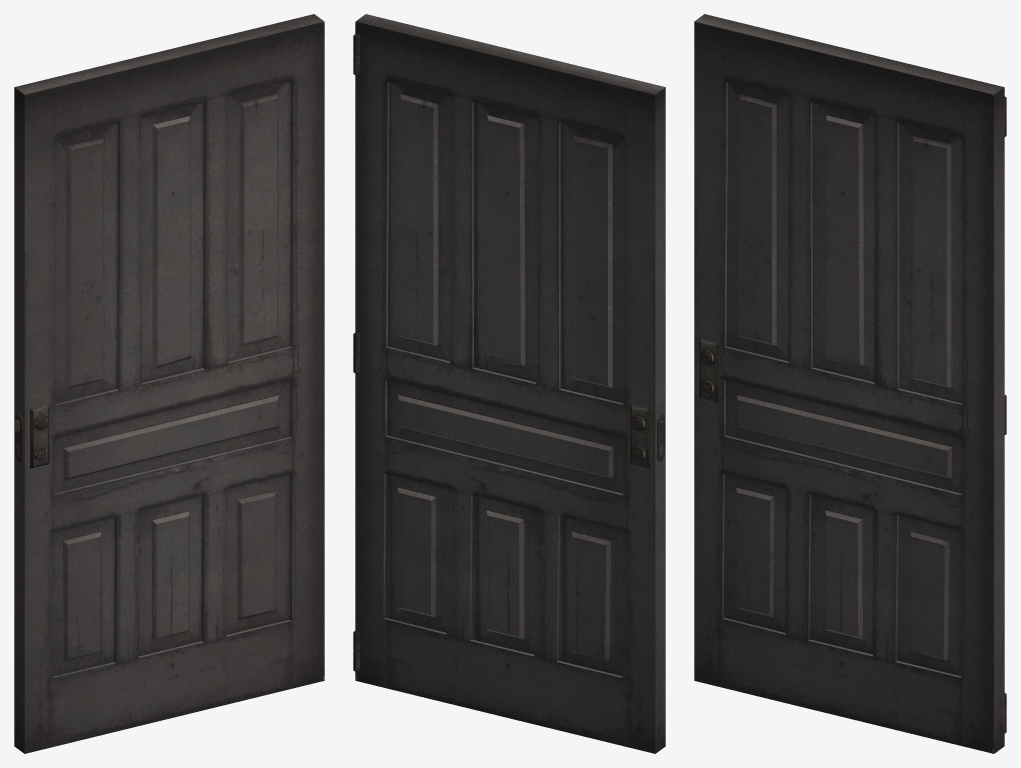
The model's file is door_1.fbx.
3 views of the same model, side by side, from view 1: azimuth 30°, elevation 25°; view 2: azimuth 150°, elevation 25°; view 3: azimuth 330°, elevation 25° (orthographic).
Parts seen in each view (by area): view 1: door_1; view 2: door_1; view 3: door_1.
Boxes of the visible parts, x1,y1,x2,y2 form: door_1: [14, 14, 324, 753]; door_1: [353, 14, 665, 753]; door_1: [694, 14, 1006, 753].
Size of the model in its own units: 101 by 210 by 9.33.
